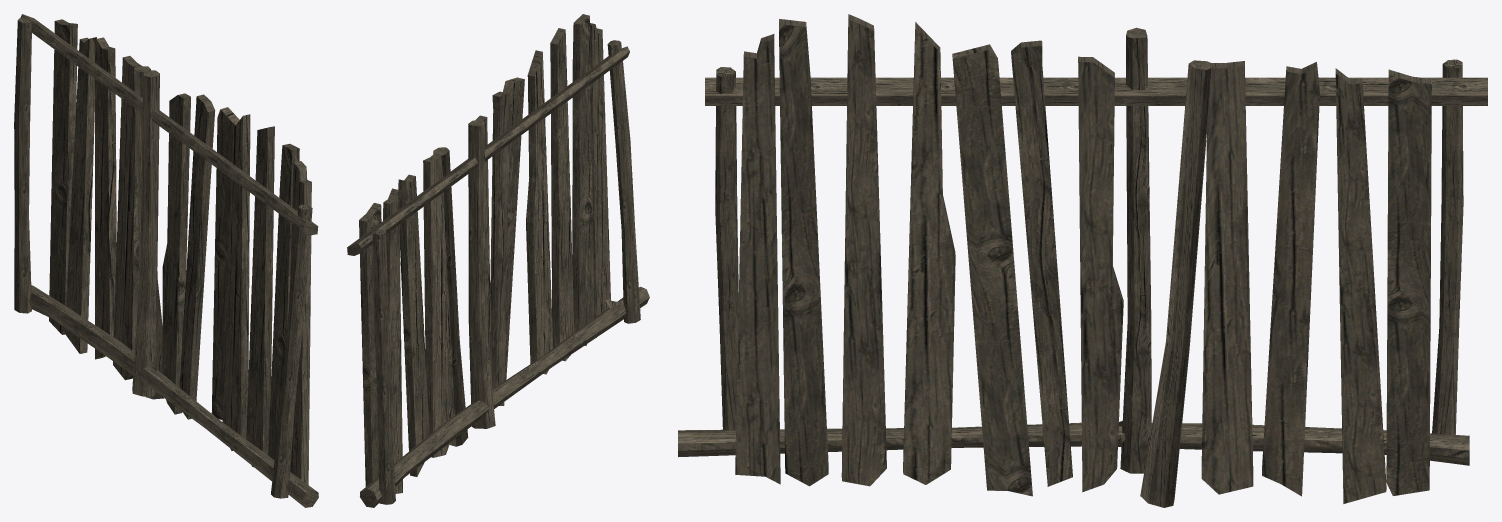
Rendered from fence.fbx.
3 renders of one model, left to right at view 1: azimuth 30°, elevation 25°; view 2: azimuth 150°, elevation 25°; view 3: azimuth 270°, elevation 25°, orthographic. The views are drawn at different scales.
Visible parts, largest first — view 1: fence_LOD0; view 2: fence_LOD0; view 3: fence_LOD0.
Boxes of the visible parts, box(x1,y1,x2,y2) form: fence_LOD0: box(14, 14, 318, 507); fence_LOD0: box(347, 14, 649, 507); fence_LOD0: box(678, 14, 1487, 507).
Size of what is drawn, in the model's own units: 0.00198 by 0.0119 by 0.0178.
